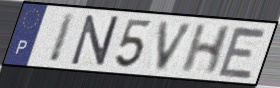5: (114, 17, 154, 70)
E: (215, 24, 269, 81)
H: (178, 23, 235, 76)
I: (46, 11, 78, 65)
N: (69, 14, 121, 67)
V: (155, 20, 198, 74)
